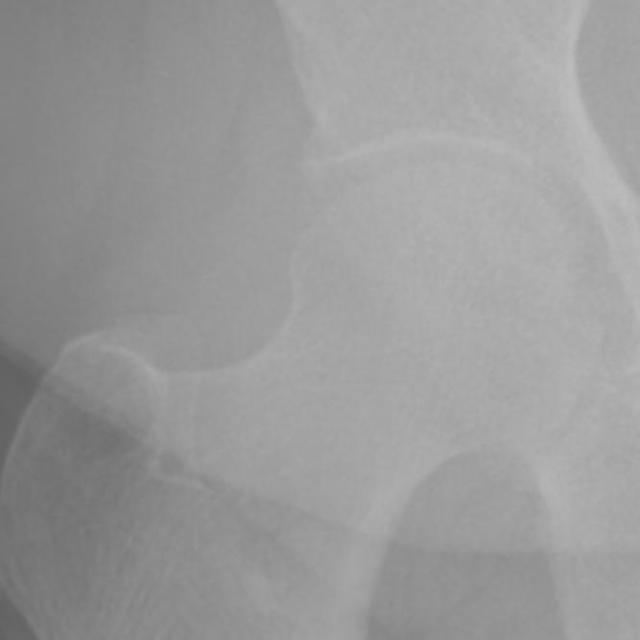Fitted_femural_head: (324, 156, 432, 324)
